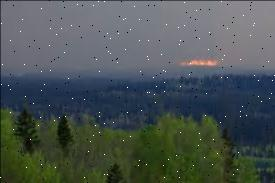fire: (176, 55, 225, 70)
